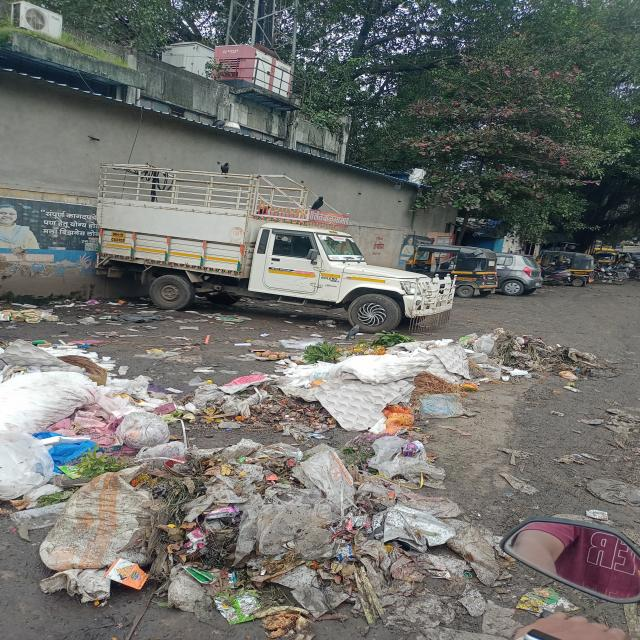garbage: (4, 328, 505, 618)
